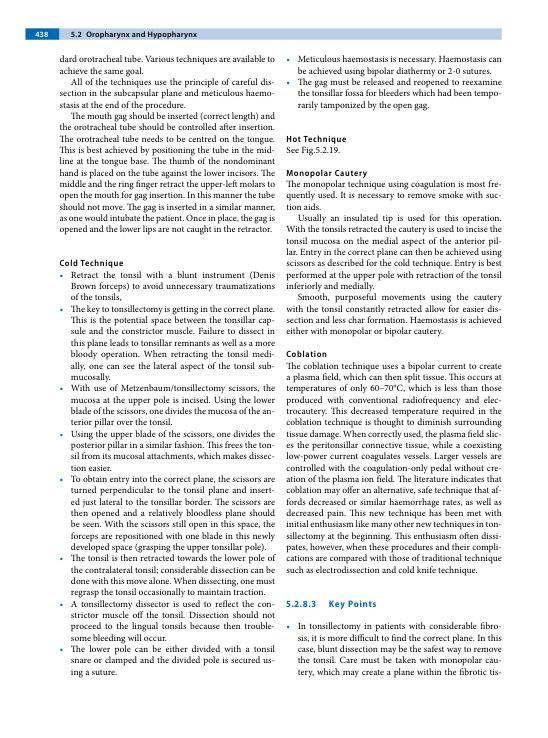header: (85, 30, 198, 40)
list: (57, 269, 277, 680), (285, 620, 503, 680), (283, 54, 504, 112)
sub-section-heading: (285, 169, 368, 178), (59, 258, 124, 269), (285, 134, 347, 145), (328, 599, 377, 611), (285, 349, 328, 358)
table: (285, 145, 341, 156)
text: (284, 360, 503, 577), (57, 54, 277, 237), (284, 178, 502, 338)
